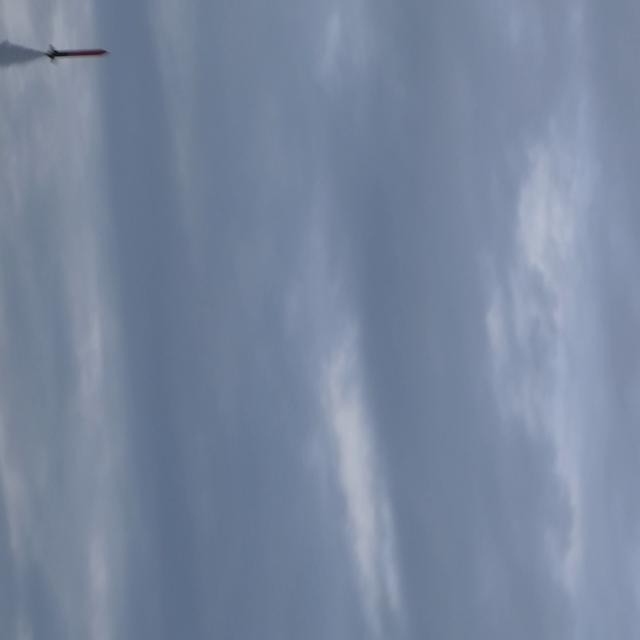Rocket: (46, 44, 110, 62)
